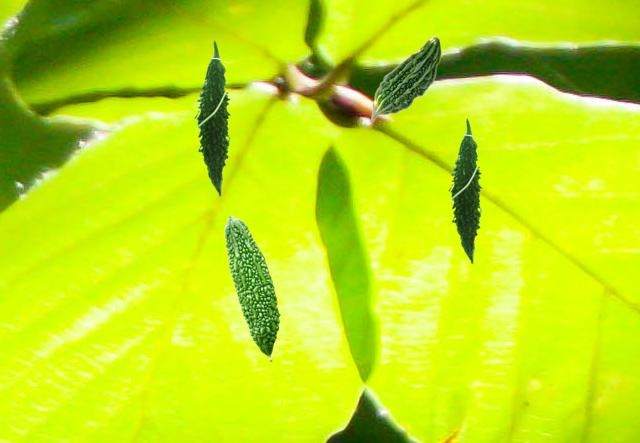ampalaya: (224, 215, 281, 362), (193, 39, 235, 197), (369, 36, 442, 123), (447, 117, 486, 264)
